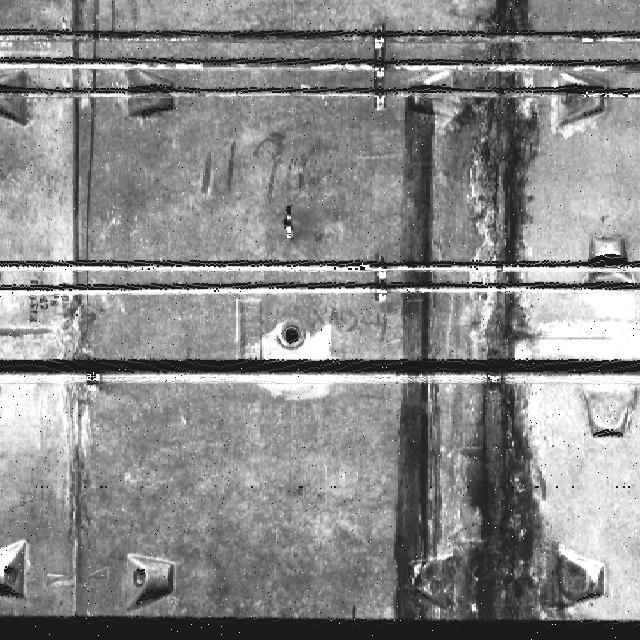leakage: (442, 3, 579, 631), (392, 80, 442, 629)
